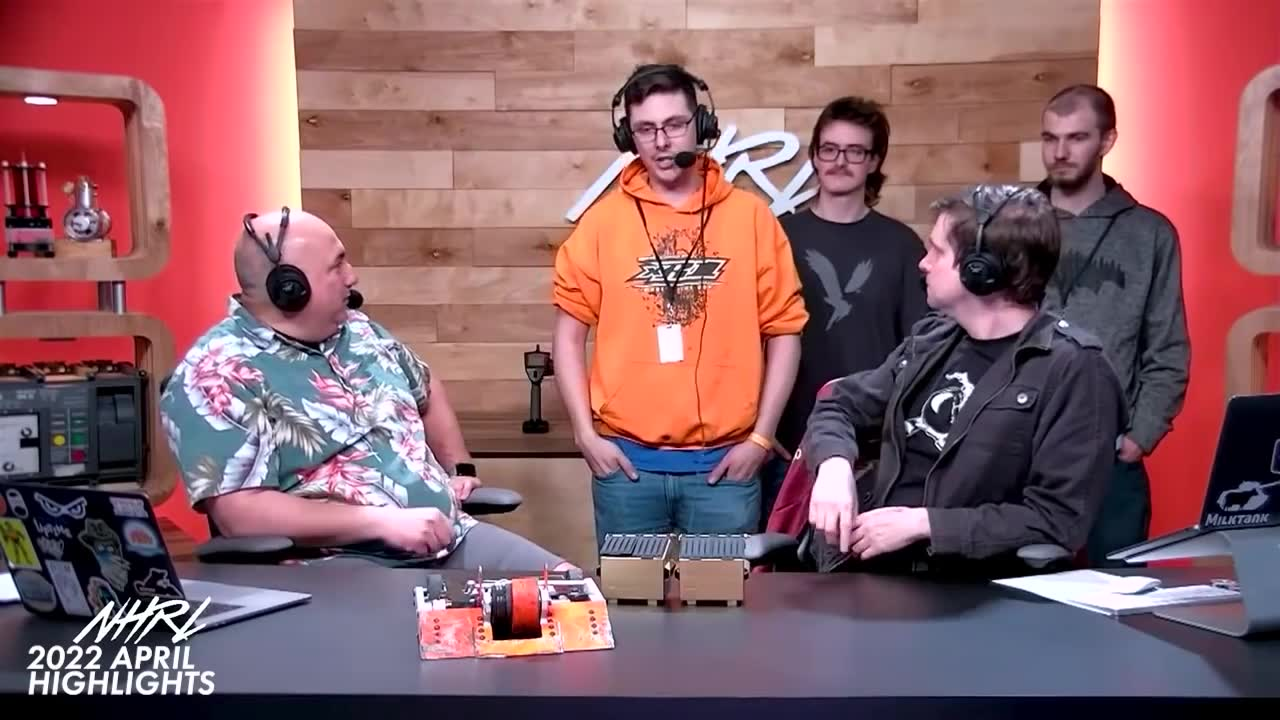combatbot: (410, 558, 615, 662)
